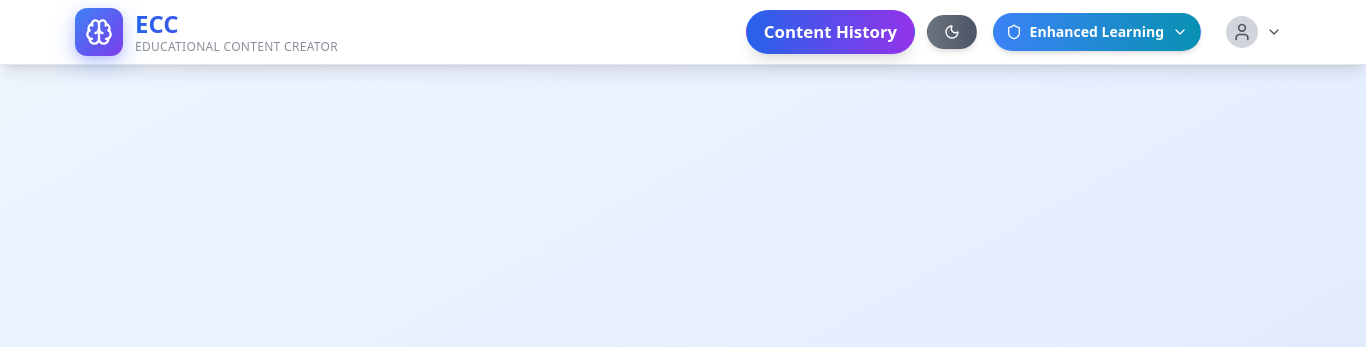
Test case: Header Component › displays user profile dropdown when avatar is clicked
The image size is (1366, 347).
What coordinates should you click on to do the following:
click the button named "user menu"
I would click on:
 (1254, 32)
Its box is [1217,7,1291,57].
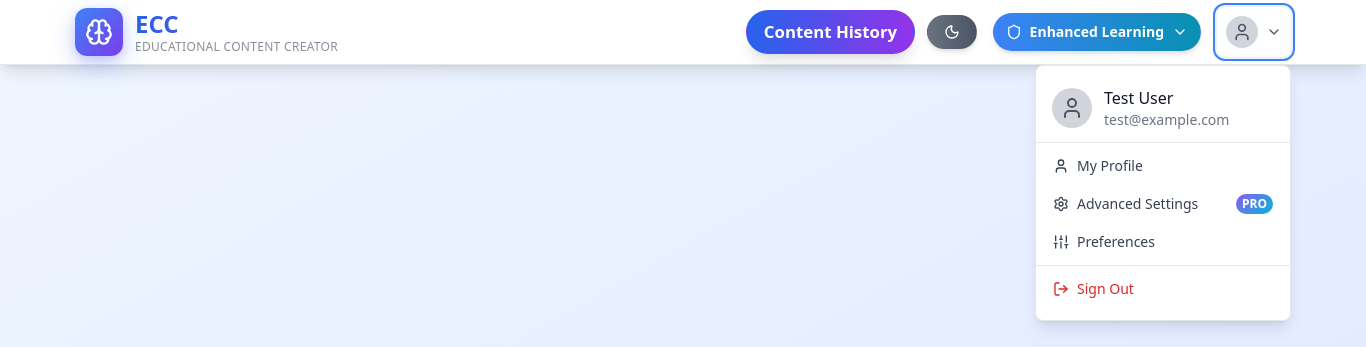
Check: the text "My Profile" is shown, box [1077,156,1143,176]
Check: the text "Sign Out" is shown, box [1077,279,1134,299]
